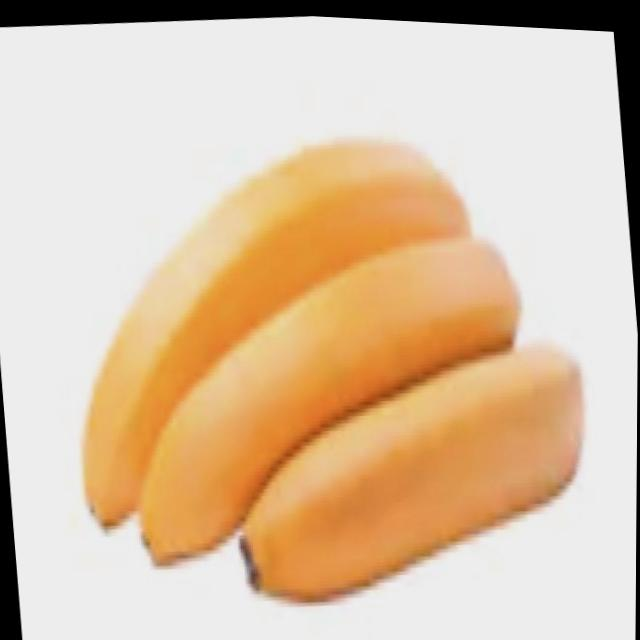Banana: (53, 112, 542, 588), (118, 201, 538, 580), (222, 316, 602, 616)
